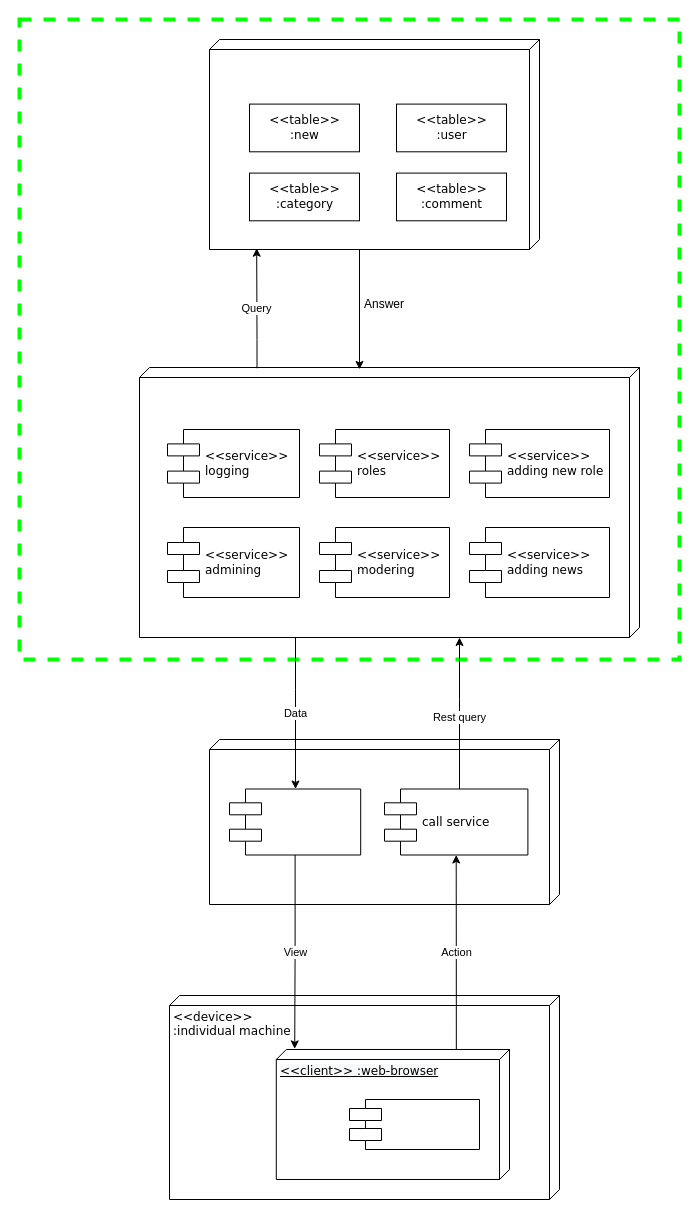
Image size: 698x1217. Some labels were removed from this diagram. The shapes that lost their labels are listed below. From the top down, each one's box as (x1, y1, x2, y2) in pixels, then its label:
(208, 38, 540, 250): <<source>> :db server
(17, 17, 681, 661): local net
(138, 366, 640, 638): <<server>>:app server
(228, 788, 361, 855): view service
(208, 738, 560, 904): <<server>> :web-server
(348, 1098, 480, 1150): User Interface
